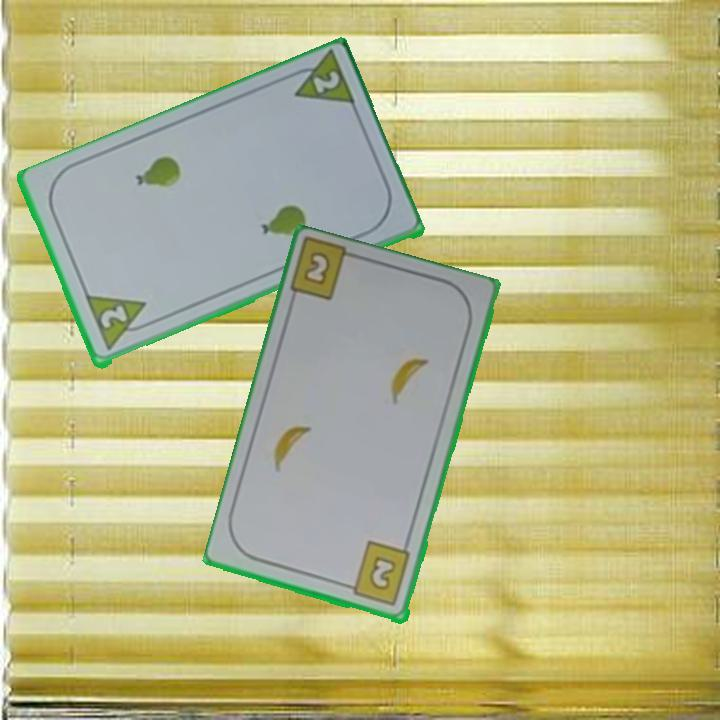2b: (341, 539, 413, 609), (303, 251, 331, 285)
2p: (282, 49, 359, 112), (96, 302, 130, 332)
